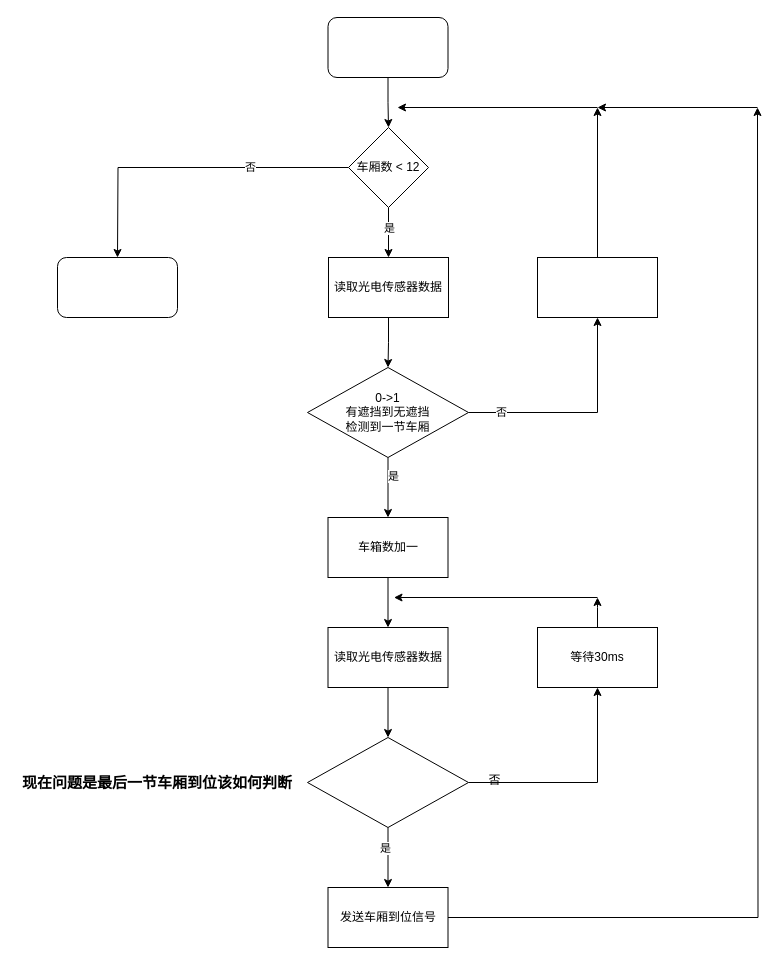
Some shapes in this 783 by 965 pixel diagram are drawn without their labels. Here are the shapes that lost their labels. From the top down, the box of each, then its label:
(327, 16, 448, 78): 开始
(56, 256, 178, 318): 结束
(536, 256, 658, 318): 等待300ms
(306, 736, 468, 828): 1->0 无遮挡到遮挡 判断车厢是否到位
